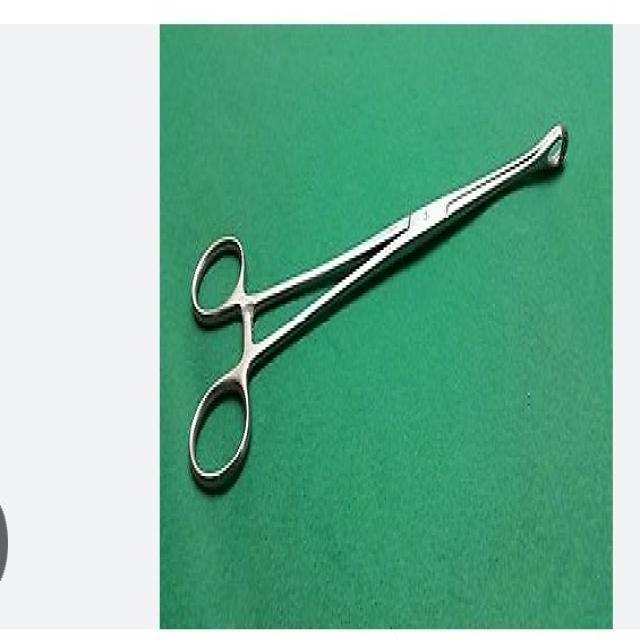Sponge Holding Forceps: (181, 118, 578, 490)
